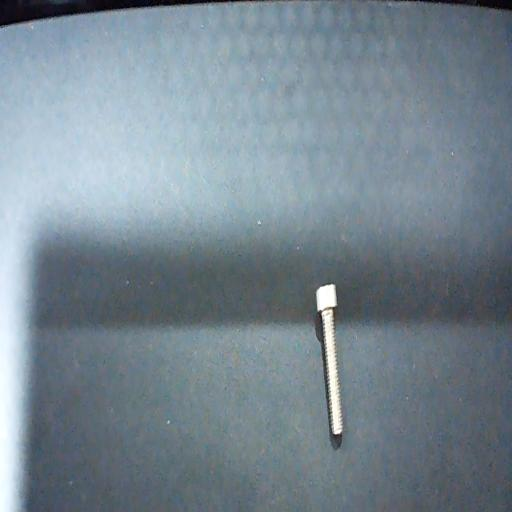screw: (315, 280, 344, 442)
